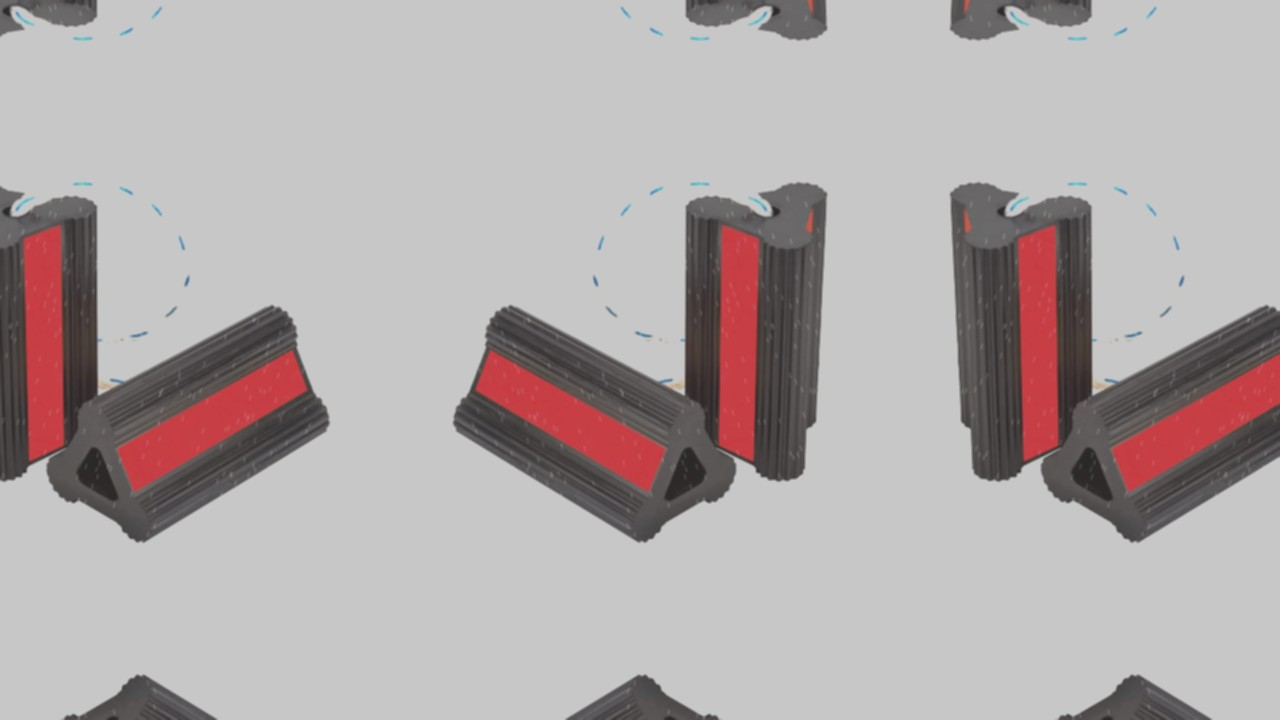chock: (47, 301, 331, 545), (452, 301, 736, 545), (1042, 301, 1280, 545), (683, 178, 834, 482), (943, 178, 1094, 482), (0, 178, 99, 482), (47, 673, 331, 720), (452, 673, 736, 720), (1042, 673, 1280, 720), (683, 0, 834, 44), (943, 0, 1094, 44), (0, 0, 99, 44)
